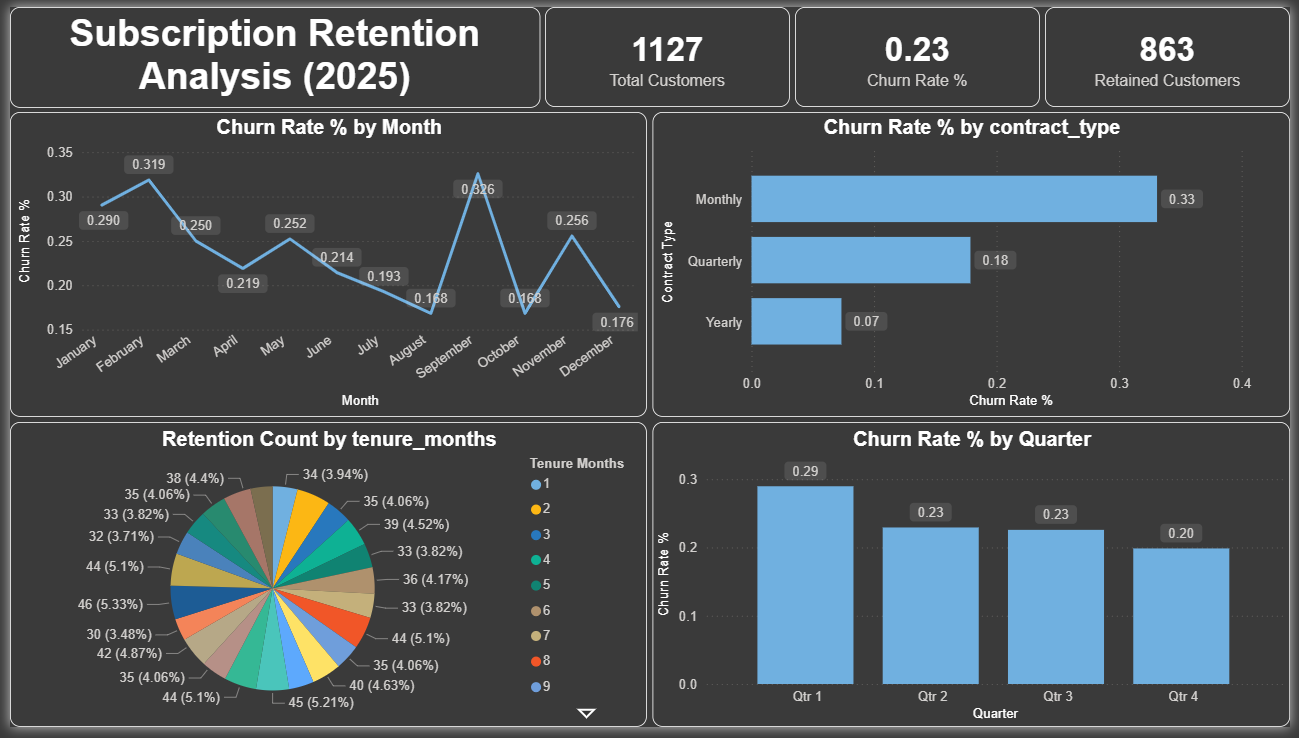

The page's visual inventory and layout, read from the dashboard file:
{"tool":"powerbi","page":{"name":"Page 1","canvas":[1280,720],"ordinal":0},"visuals":[{"type":"card","fields":{"Values":["subscription_churn_clean.Total Customers"]},"box":[535,0,245,100.3],"z":0},{"type":"card","fields":{"Values":["subscription_churn_clean.Retained Customers"]},"box":[1035,0,245,100.3],"z":1000},{"type":"card","fields":{"Values":["subscription_churn_clean.Churn Rate %"]},"box":[785,0,245,100.3],"z":2000},{"type":"lineChart","fields":{"Category":["subscription_churn_clean.start_date.Variation.Date Hierarchy.Month"],"Y":["subscription_churn_clean.Churn Rate %"]},"box":[0,105,637,305],"z":3000},{"type":"pieChart","fields":{"Category":["subscription_churn_clean.cohort_month.Variation.Date Hierarchy.Month","subscription_churn_clean.tenure_months"],"Y":["subscription_churn_clean.Retention Count"]},"box":[0,415,637,305],"z":4000},{"type":"barChart","fields":{"Y":["subscription_churn_clean.Churn Rate %"],"Category":["subscription_churn_clean.contract_type"]},"box":[642.5,105,637.5,305],"z":5000},{"type":"columnChart","fields":{"Y":["subscription_churn_clean.Churn Rate %"],"Category":["subscription_churn_clean.cohort_month.Variation.Date Hierarchy.Quarter"]},"box":[642.5,415,637.5,305],"z":6000},{"type":"textbox","box":[0,0,530,100.8],"z":7000}]}

Visuals, with their boxes in screenshot pixels (x1, y1, x2, y2), scaled from the page's 1280x720 canvas onto the 1299x738 screenshot:
card - subscription_churn_clean.Total Customers: 543 0 792 103
card - subscription_churn_clean.Retained Customers: 1050 0 1298 103
card - subscription_churn_clean.Churn Rate %: 797 0 1045 103
lineChart - subscription_churn_clean.start_date.Variation.Date Hierarchy.Month x subscription_churn_clean.Churn Rate %: 0 108 646 420
pieChart - subscription_churn_clean.cohort_month.Variation.Date Hierarchy.Month x subscription_churn_clean.tenure_months: 0 425 646 737
barChart - subscription_churn_clean.Churn Rate % x subscription_churn_clean.contract_type: 652 108 1298 420
columnChart - subscription_churn_clean.Churn Rate % x subscription_churn_clean.cohort_month.Variation.Date Hierarchy.Quarter: 652 425 1298 737
textbox: 0 0 538 103
